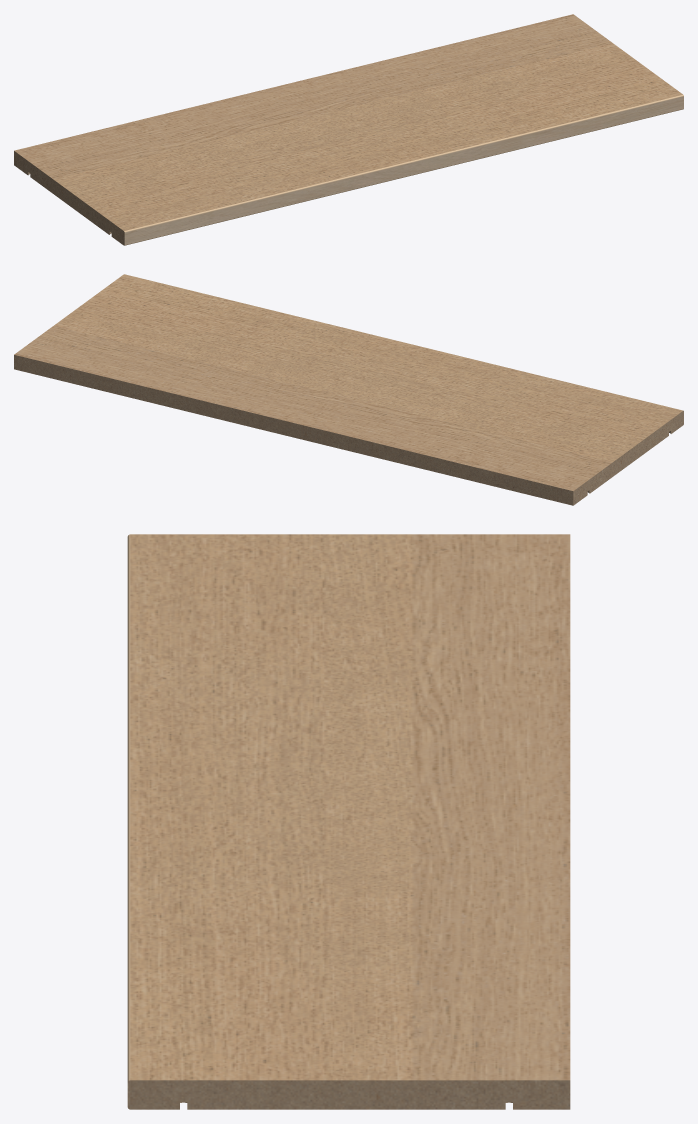
The model's file is 21 - BILLY Shelf - oak effect 76x26 cm.glb.
3 renders of one model, top to bottom at view 1: azimuth 30°, elevation 25°; view 2: azimuth 150°, elevation 25°; view 3: azimuth 270°, elevation 25°, orthographic. The views are drawn at different scales.
Bounding box in the file's own units: 0.762 × 0.019 × 0.261.
Materials: 1 (1 with a texture image).
